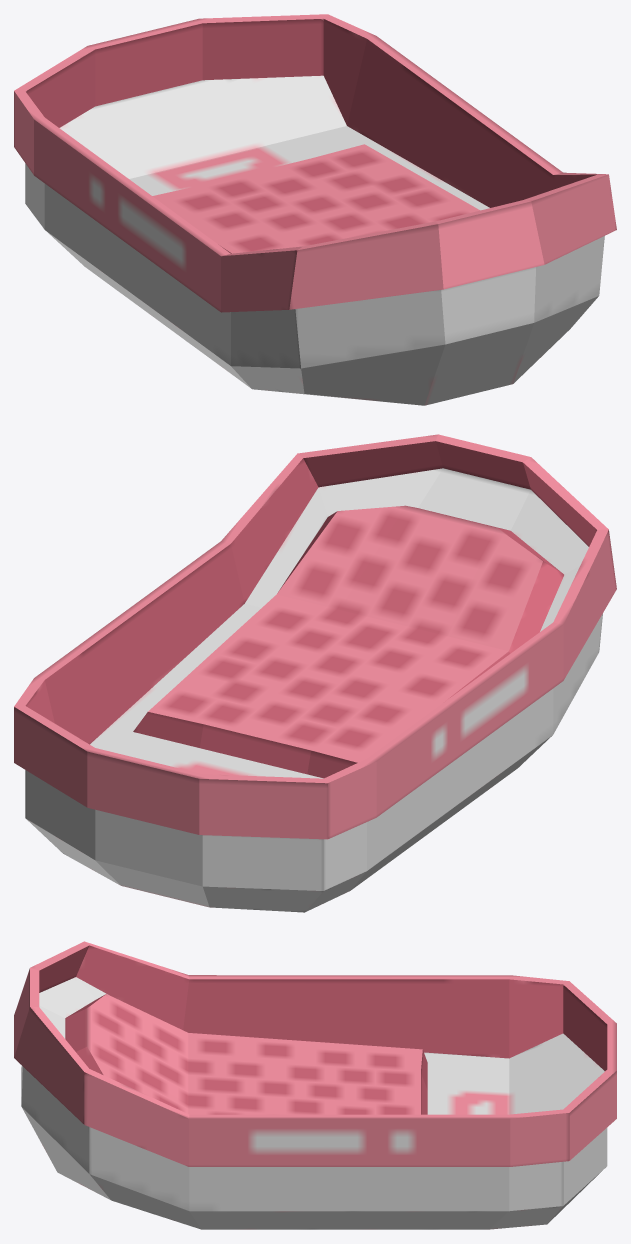
The model's file is BabyBath.fbx.
3 renders of one model, top to bottom at view 1: azimuth 30°, elevation 25°; view 2: azimuth 150°, elevation 25°; view 3: azimuth 270°, elevation 25°, orthographic. The views are drawn at different scales.
Parts seen in each view (by area): view 1: cuboid; view 2: cuboid; view 3: cuboid.
Boxes of the visible parts, x1,y1,x2,y2 form: cuboid: (14,14,616,405); cuboid: (14,434,616,912); cuboid: (14,941,616,1229).
Bounding box in the file's own units: 106 × 70.59 × 188.
Materials: 1 (1 with a texture image).
